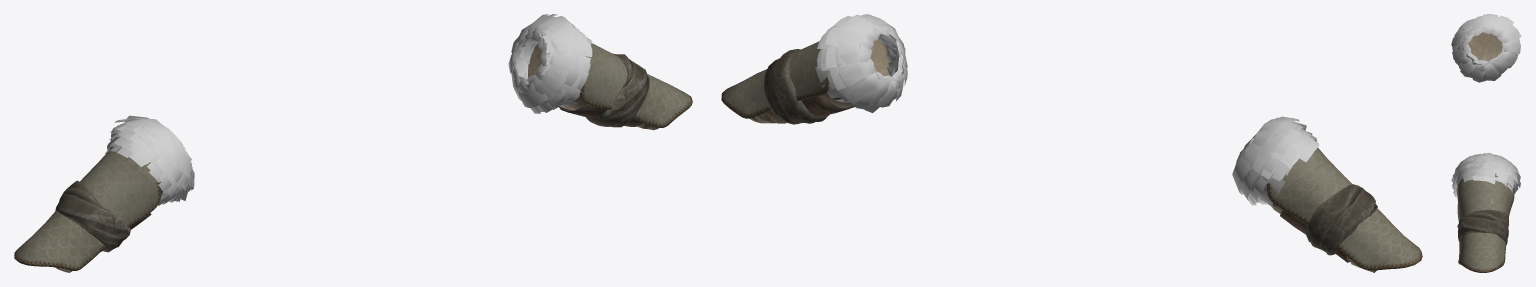
The model's file is dunland_wulf_bracer_heavy_f.fbx.
The picture shows the model from 3 angles, left to right: view 1: azimuth 30°, elevation 25°; view 2: azimuth 150°, elevation 25°; view 3: azimuth 270°, elevation 25°; orthographic projection. The views are drawn at different scales.
Parts seen in each view (by area): view 1: dunland_wulf_bracer_heavy_f.0, dunland_wulf_bracer_heavy_f.1; view 2: dunland_wulf_bracer_heavy_f.0, dunland_wulf_bracer_heavy_f.1; view 3: dunland_wulf_bracer_heavy_f.0, dunland_wulf_bracer_heavy_f.1.
Boxes of the visible parts, x1=… form: dunland_wulf_bracer_heavy_f.0: x1=14, y1=43, x2=692, y2=272; dunland_wulf_bracer_heavy_f.1: x1=105, y1=14, x2=592, y2=205; dunland_wulf_bracer_heavy_f.0: x1=721, y1=38, x2=1422, y2=272; dunland_wulf_bracer_heavy_f.1: x1=815, y1=14, x2=1319, y2=207; dunland_wulf_bracer_heavy_f.0: x1=1457, y1=32, x2=1514, y2=272; dunland_wulf_bracer_heavy_f.1: x1=1451, y1=14, x2=1521, y2=197.
Bounding box in the file's own units: 1.47 × 0.1933 × 0.263.
